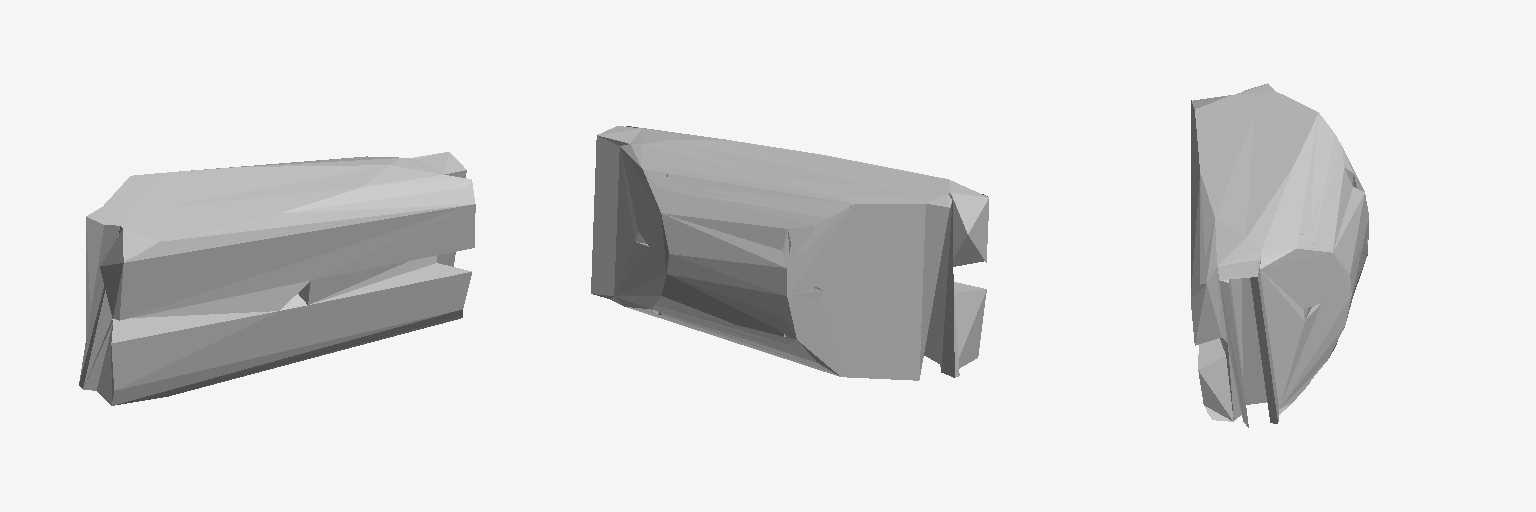
The model's file is fingerBase_blue.obj.
The picture shows the model from 3 angles: view 1: azimuth 30°, elevation 25°; view 2: azimuth 150°, elevation 25°; view 3: azimuth 270°, elevation 25°; orthographic projection.
Parts seen in each view (by area): view 1: Mesh_obj0.000_Mesh_obj0.002; view 2: Mesh_obj0.000_Mesh_obj0.002; view 3: Mesh_obj0.000_Mesh_obj0.002.
Part boxes in pixels (x1,y1,x2,y2): Mesh_obj0.000_Mesh_obj0.002: (79,152,475,405); Mesh_obj0.000_Mesh_obj0.002: (591,126,988,380); Mesh_obj0.000_Mesh_obj0.002: (1191,83,1368,427).
Bounding box in the file's own units: 0.061 × 0.0294 × 0.0259.